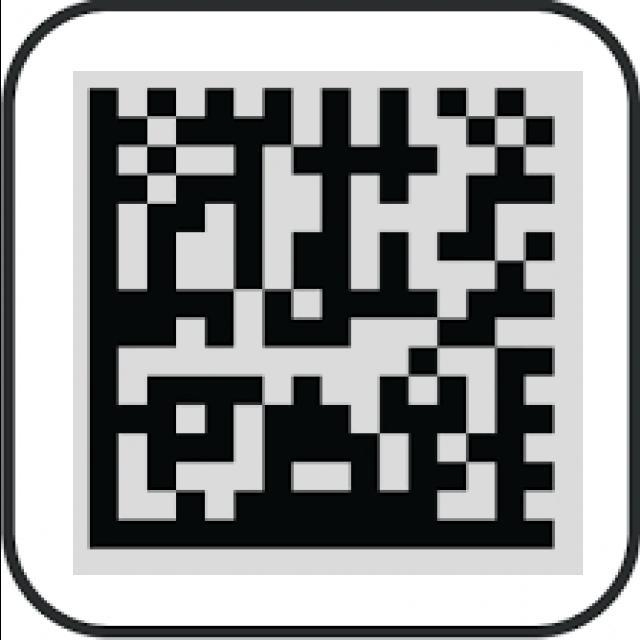Data-Matrix: (72, 71, 582, 575)
